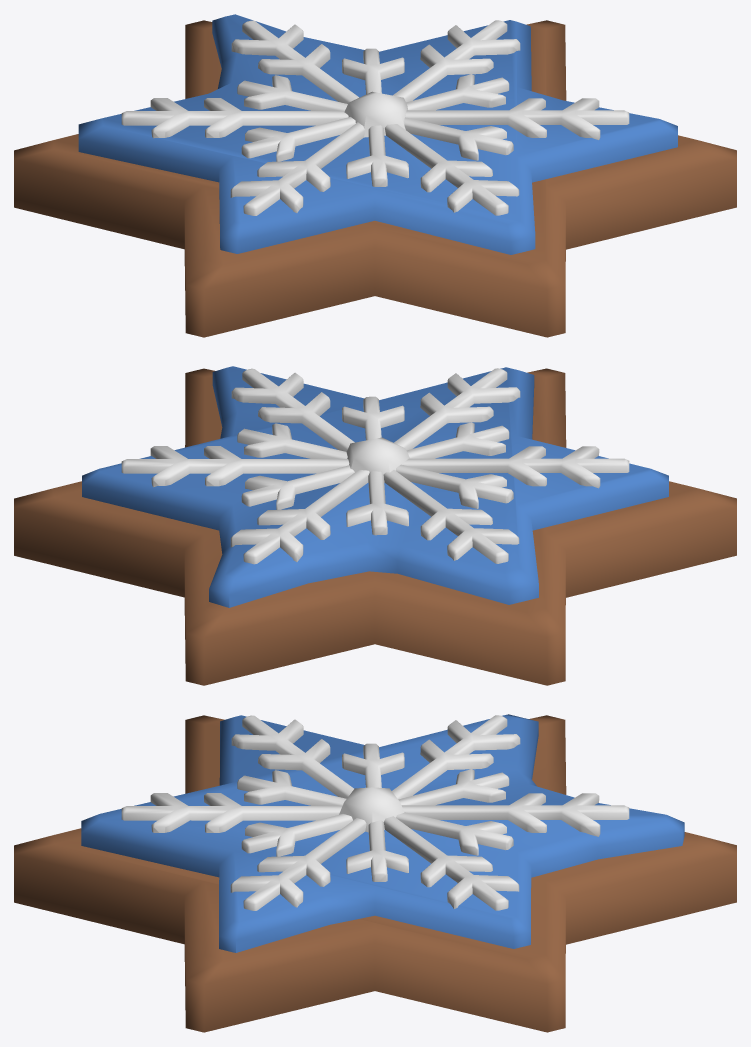
The model's file is CookieSnowflake_02.fbx.
3 renders of one model, top to bottom at view 1: azimuth 30°, elevation 25°; view 2: azimuth 150°, elevation 25°; view 3: azimuth 270°, elevation 25°, orthographic.
Visible parts, largest first — view 1: CookieSnowflake_02; view 2: CookieSnowflake_02; view 3: CookieSnowflake_02.
Part boxes in pixels (x1,y1,x2,y2): CookieSnowflake_02: [14, 14, 736, 337]; CookieSnowflake_02: [14, 366, 736, 685]; CookieSnowflake_02: [14, 714, 736, 1032].
Size of the model in its own units: 0.1378 by 0.0266 by 0.1565.
